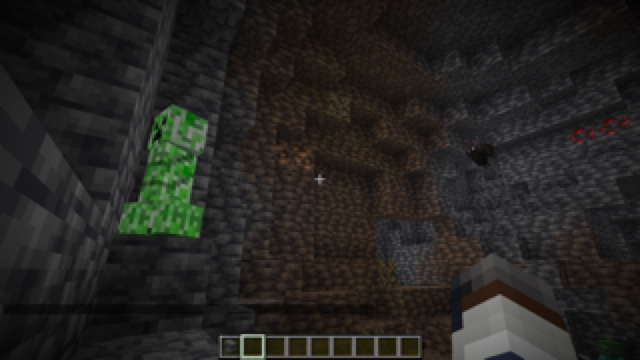iron: (270, 139, 317, 178)
redstone: (565, 112, 640, 147)
